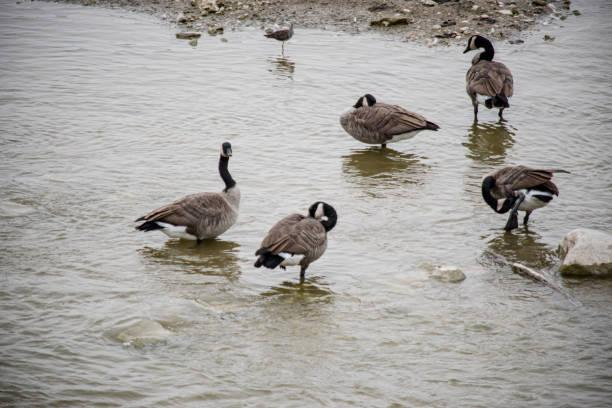Canadian-Goose: (136, 140, 245, 240), (253, 200, 342, 283), (481, 165, 567, 233), (456, 36, 516, 128), (339, 94, 437, 150)
